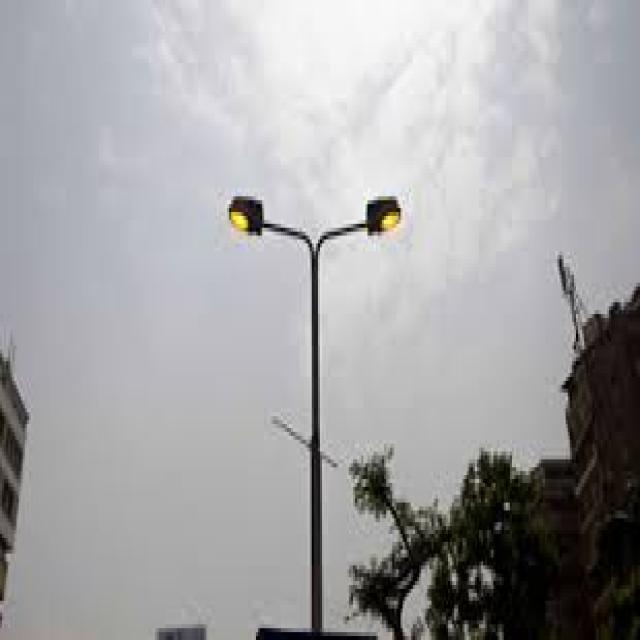Street Light: (227, 184, 402, 640)
